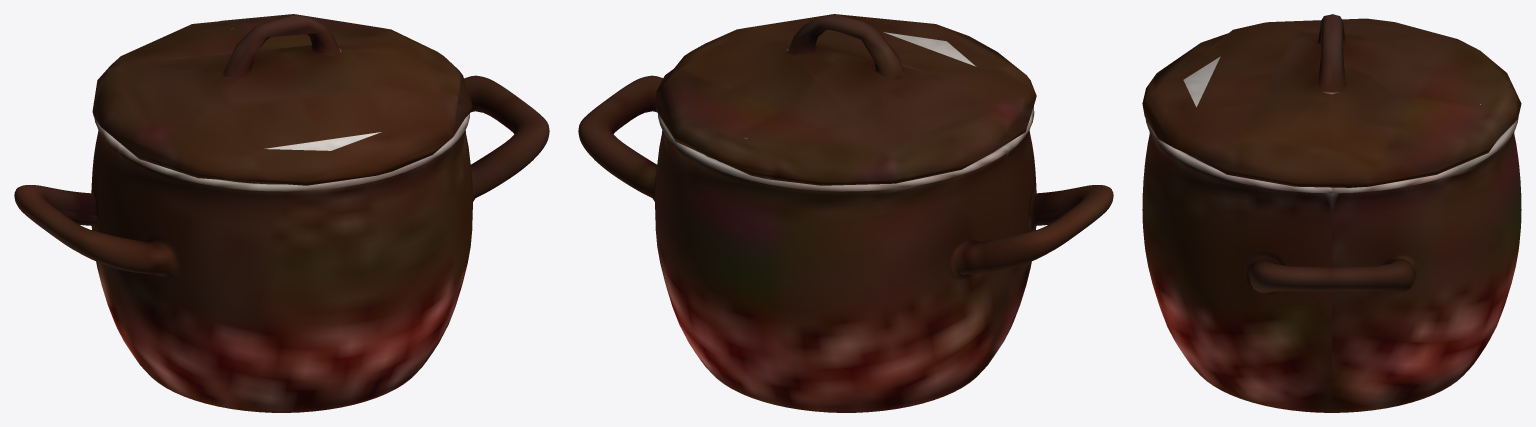
3 renders of one model, left to right at view 1: azimuth 30°, elevation 25°; view 2: azimuth 150°, elevation 25°; view 3: azimuth 270°, elevation 25°, orthographic.
Visible parts, largest first — view 1: pot_enamel_01_base, pot_enamel_01_lid; view 2: pot_enamel_01_base, pot_enamel_01_lid; view 3: pot_enamel_01_base, pot_enamel_01_lid.
Boxes of the visible parts, x1=… form: pot_enamel_01_base: x1=14, y1=75, x2=549, y2=412; pot_enamel_01_lid: x1=92, y1=14, x2=472, y2=185; pot_enamel_01_base: x1=578, y1=75, x2=1113, y2=412; pot_enamel_01_lid: x1=655, y1=14, x2=1036, y2=185; pot_enamel_01_base: x1=1142, y1=117, x2=1521, y2=412; pot_enamel_01_lid: x1=1142, y1=14, x2=1521, y2=187.
Size of the model in its own units: 0.2629 by 0.178 by 0.1805.
1 material, 1 textured.
